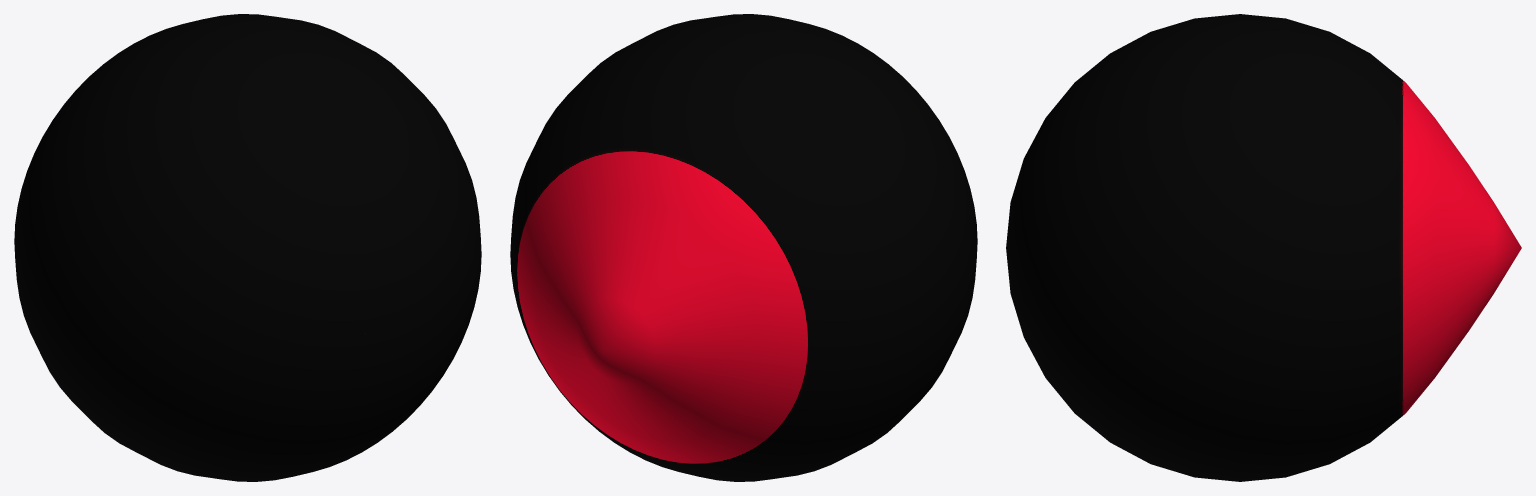
The model's file is Bomb.fbx.
The picture shows the model from 3 angles, left to right: view 1: azimuth 30°, elevation 25°; view 2: azimuth 150°, elevation 25°; view 3: azimuth 270°, elevation 25°; orthographic projection.
Visible parts, largest first — view 1: Sphere; view 2: Sphere; view 3: Sphere.
Boxes of the visible parts, box(x1,y1,x2,y2) form: Sphere: box(14, 14, 481, 481); Sphere: box(510, 14, 977, 481); Sphere: box(1006, 14, 1521, 481).
Size of the model in its own units: 100 by 100 by 110.
